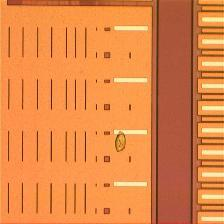COATING BAD: (105, 128, 133, 156)
